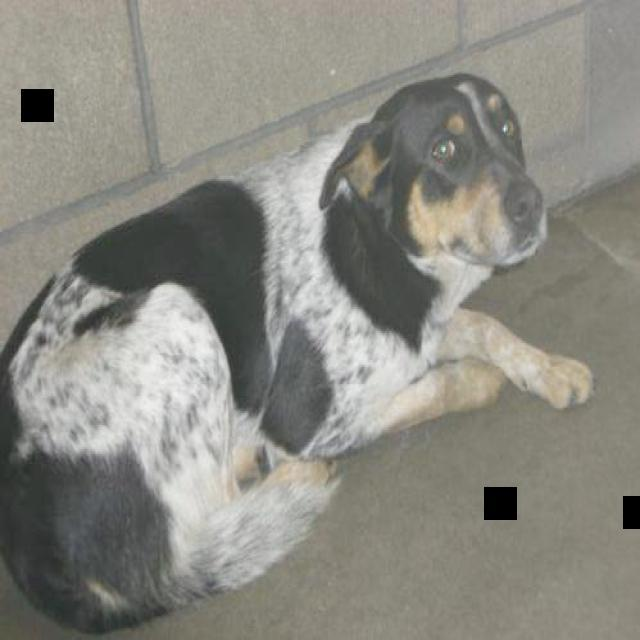adult_dog: (0, 73, 595, 636)
